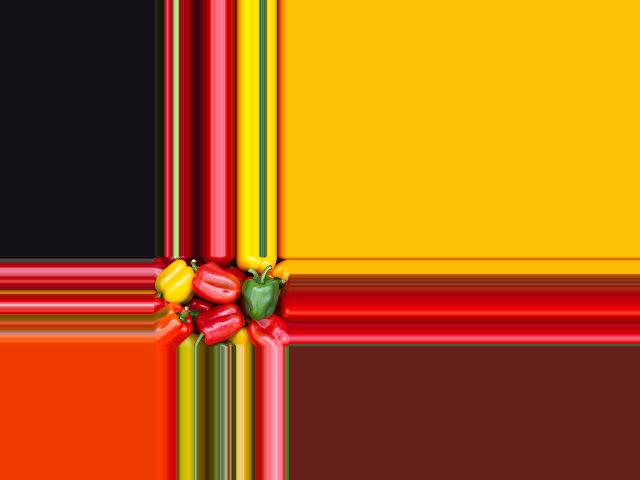bell_pepper: (155, 257, 196, 306)
